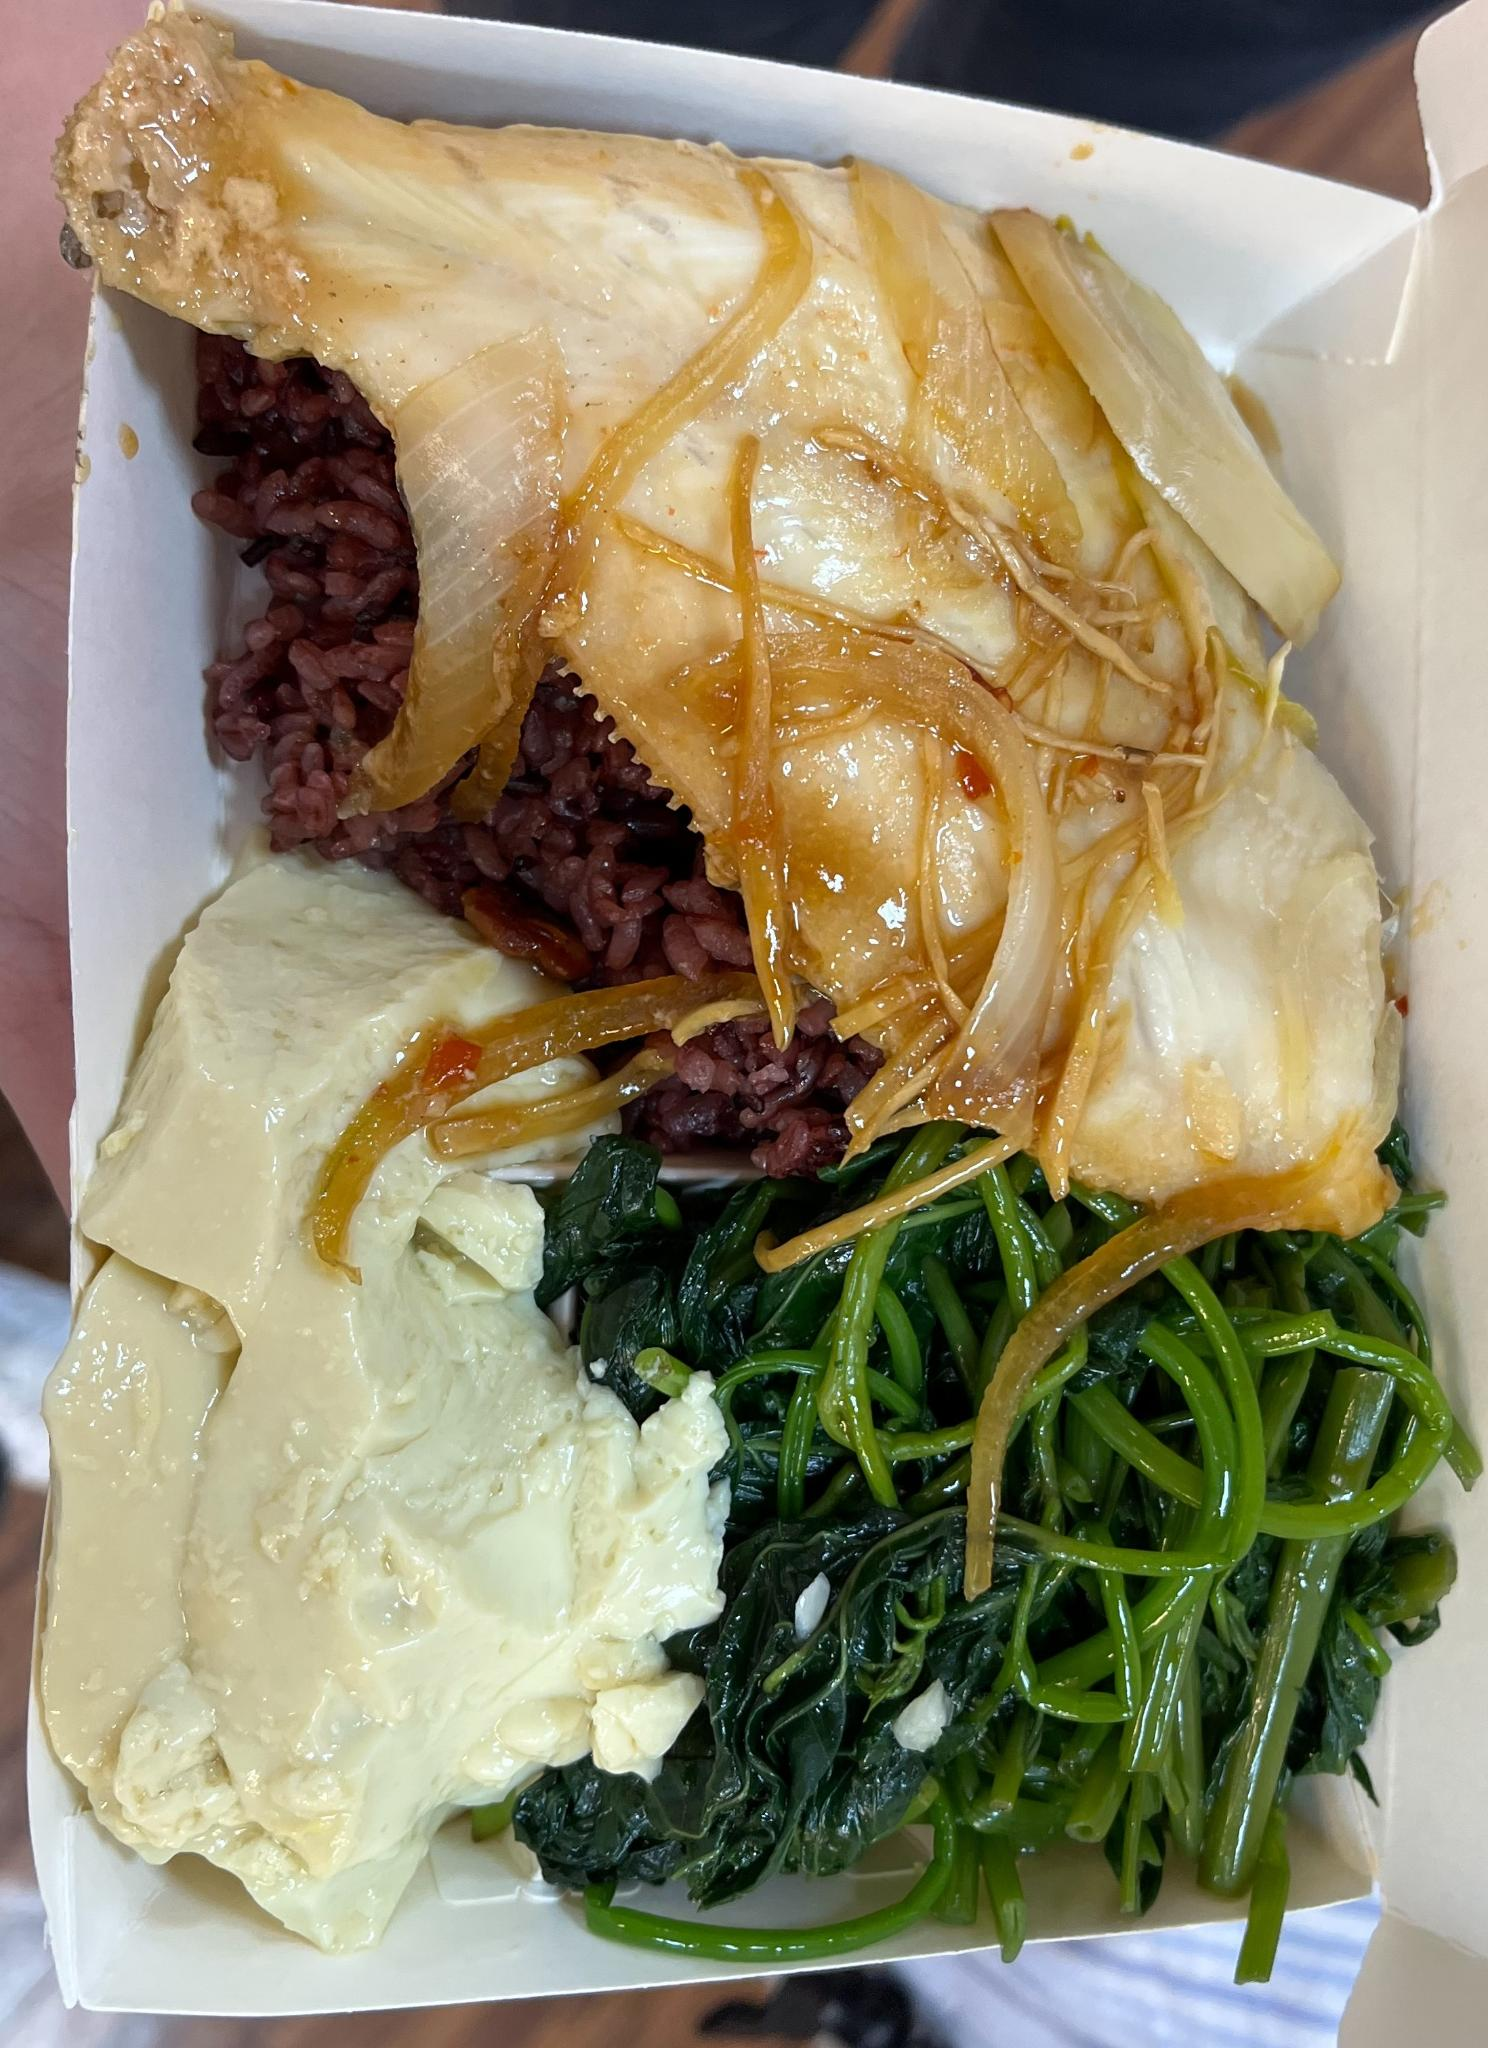big grilled chicken leg: (21, 2, 1488, 2048)
braised fish: (199, 164, 1345, 1166)
braised fish fillet: (70, 835, 717, 1865), (612, 1173, 1426, 1886)
braised pork ribs: (84, 29, 1432, 1208)
